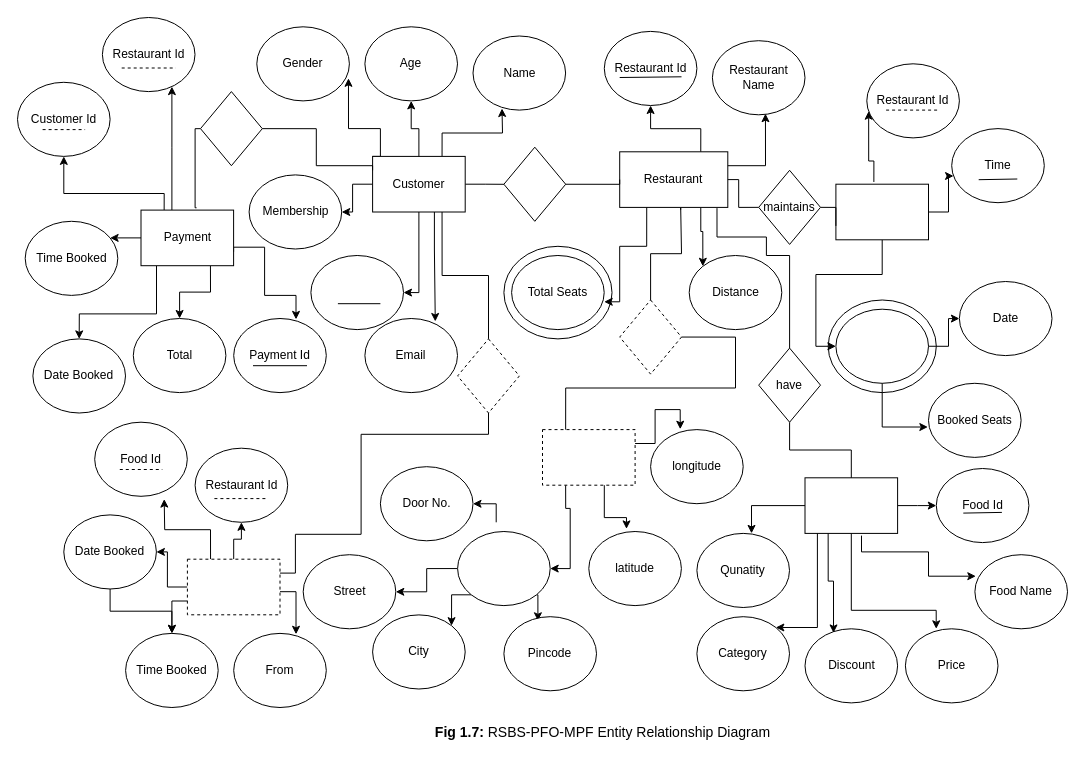
Image size: 1085x765. Some labels were removed from this diagram. The shapes that lost their labels are listed below. From the top down, each one's centre as x and y in pixels, then its label:
[231,128]: pays
[534,183]: reservers
[881,211]: Time Slots
[357,292]: Mobile
[650,336]: locates
[881,345]: Bookings
[488,375]: recieves
[588,457]: Location
[851,505]: Food
[233,586]: Message
[503,568]: Address
